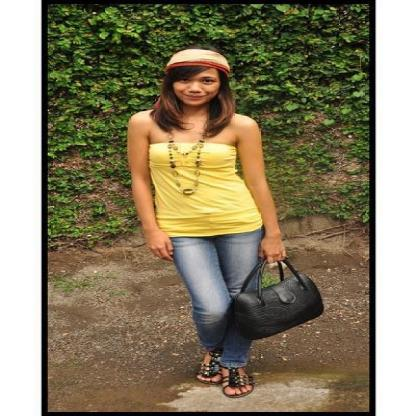bag: (224, 257, 324, 339)
hat: (167, 49, 229, 67)
pants: (164, 224, 277, 367)
shirt: (149, 134, 261, 236)
shoe: (194, 357, 270, 407)
